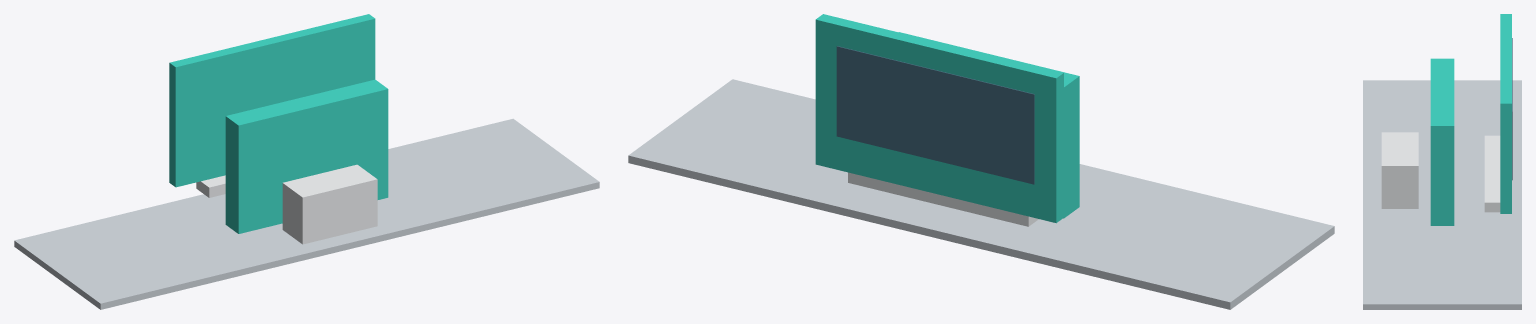
The picture shows the model from 3 angles, left to right: view 1: azimuth 30°, elevation 25°; view 2: azimuth 150°, elevation 25°; view 3: azimuth 270°, elevation 25°; orthographic projection. The views are drawn at different scales.
Visible parts, largest first — view 1: Exhibition Booth Concept; view 2: Exhibition Booth Concept; view 3: Exhibition Booth Concept.
Boxes of the visible parts, bbox=[...] form: Exhibition Booth Concept: bbox=[14, 14, 599, 309]; Exhibition Booth Concept: bbox=[628, 14, 1334, 309]; Exhibition Booth Concept: bbox=[1363, 14, 1521, 309].
Bounding box in the file's own units: 10 × 2.9 × 3.
